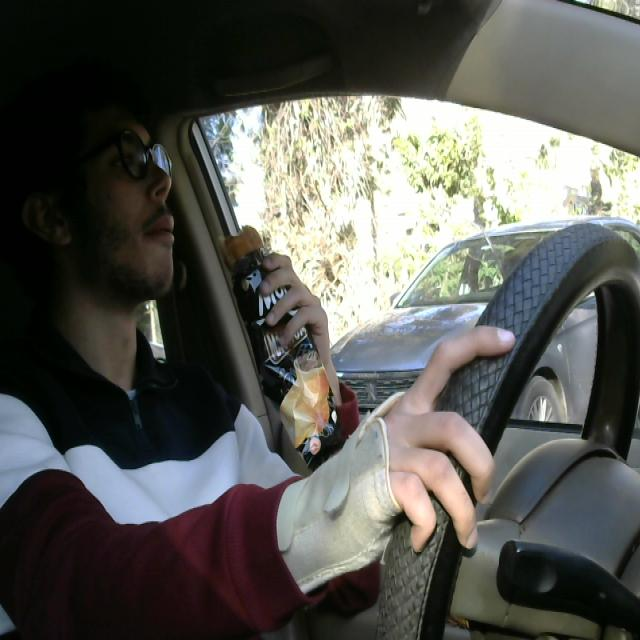eating: (210, 220, 355, 481)
